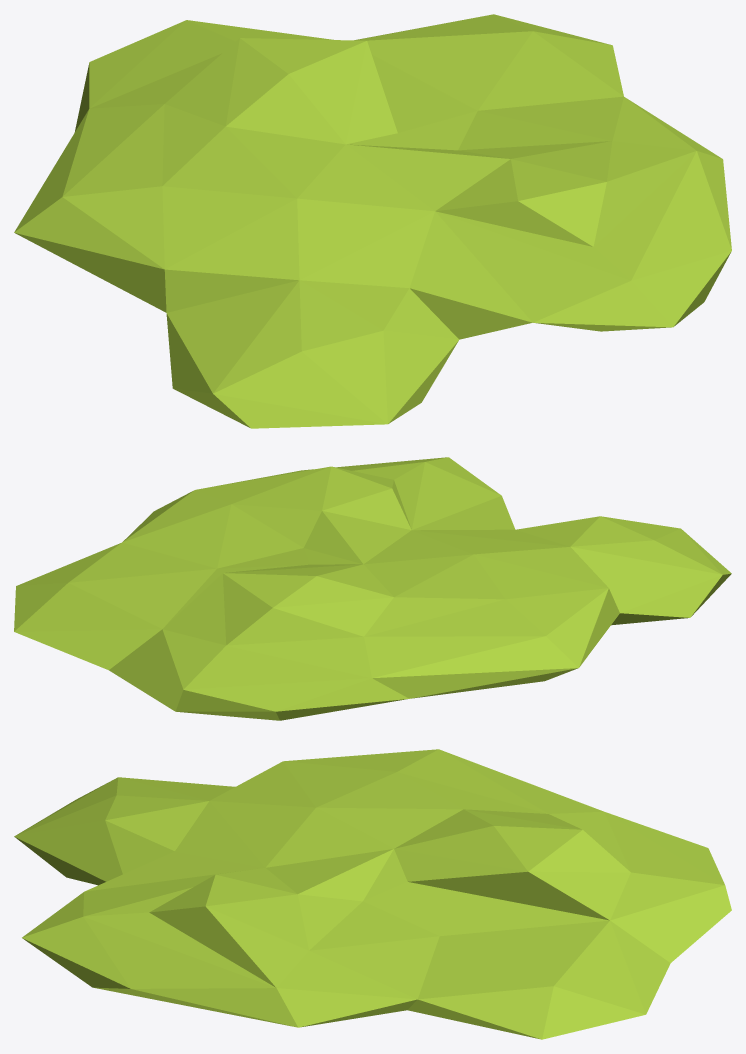
File: TreeGroup3.fbx
3 renders of one model, top to bottom at view 1: azimuth 30°, elevation 25°; view 2: azimuth 150°, elevation 25°; view 3: azimuth 270°, elevation 25°, orthographic. The views are drawn at different scales.
Parts seen in each view (by area): view 1: trees_3; view 2: trees_3; view 3: trees_3.
Boxes of the visible parts, x1,y1,x2,y2 form: trees_3: (14, 14, 731, 428); trees_3: (14, 457, 731, 720); trees_3: (14, 749, 731, 1039).
Bounding box in the file's own units: 2514 × 476 × 2786.
